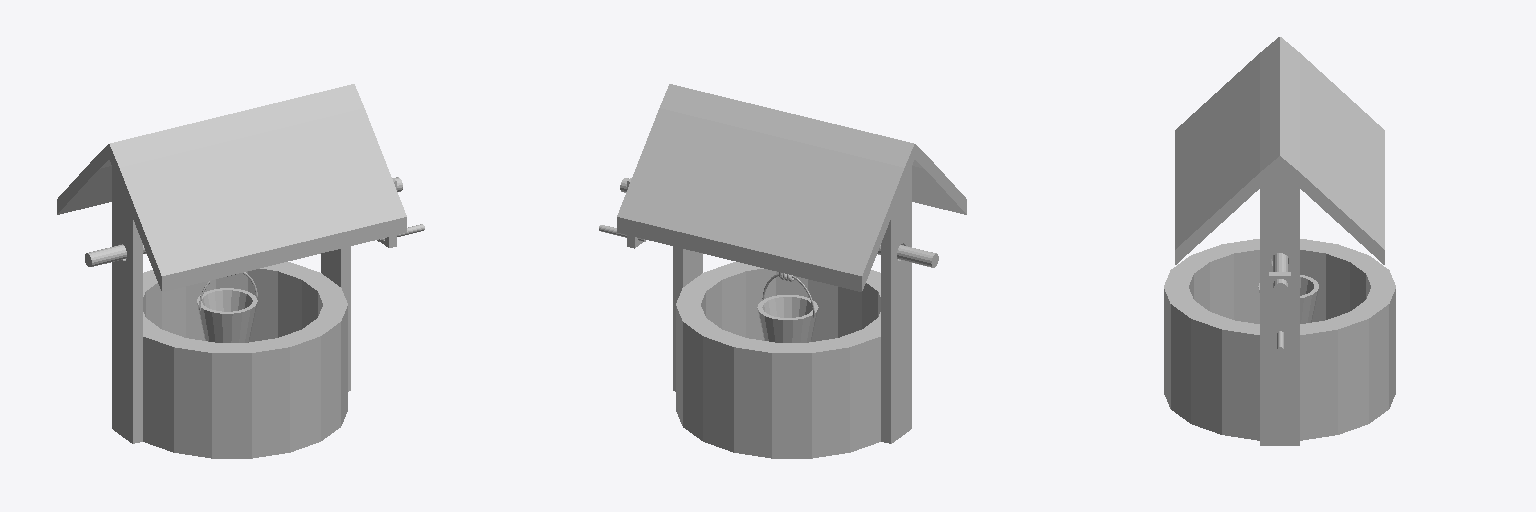
Rendered from Well.obj.
3 renders of one model, left to right at view 1: azimuth 30°, elevation 25°; view 2: azimuth 150°, elevation 25°; view 3: azimuth 270°, elevation 25°, orthographic.
Parts seen in each view (by area): view 1: Well; view 2: Well; view 3: Well.
Part boxes in pixels (left/top/right/bottom): Well: left=57, top=84, right=424, bottom=458; Well: left=599, top=84, right=966, bottom=458; Well: left=1164, top=37, right=1395, bottom=445.
Bounding box in the file's own units: 332 × 281 × 200.